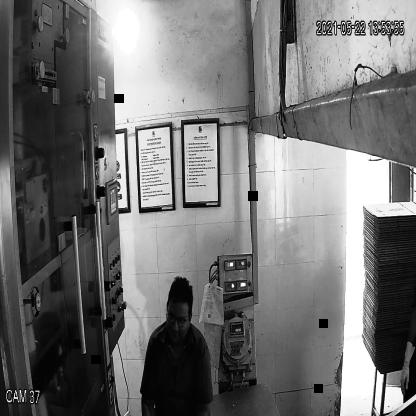goggles: (162, 302, 193, 330)
